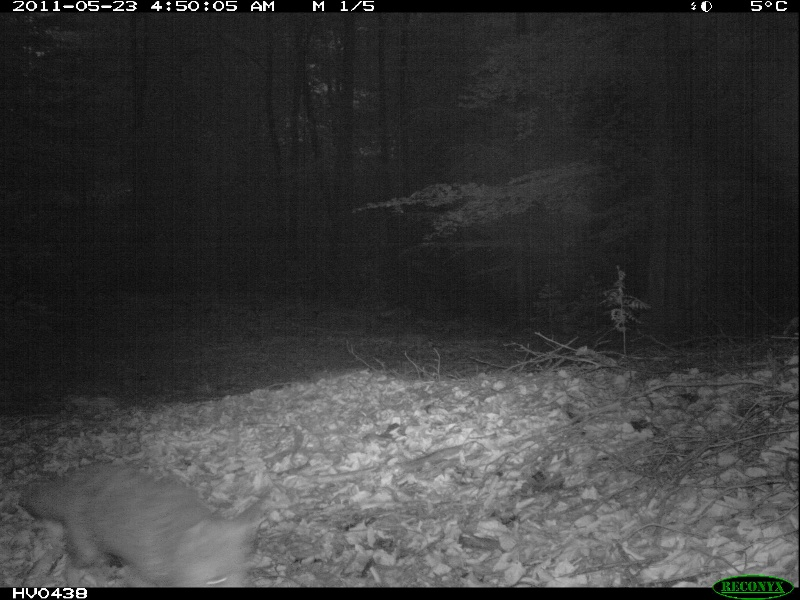fox: (28, 452, 273, 582)
